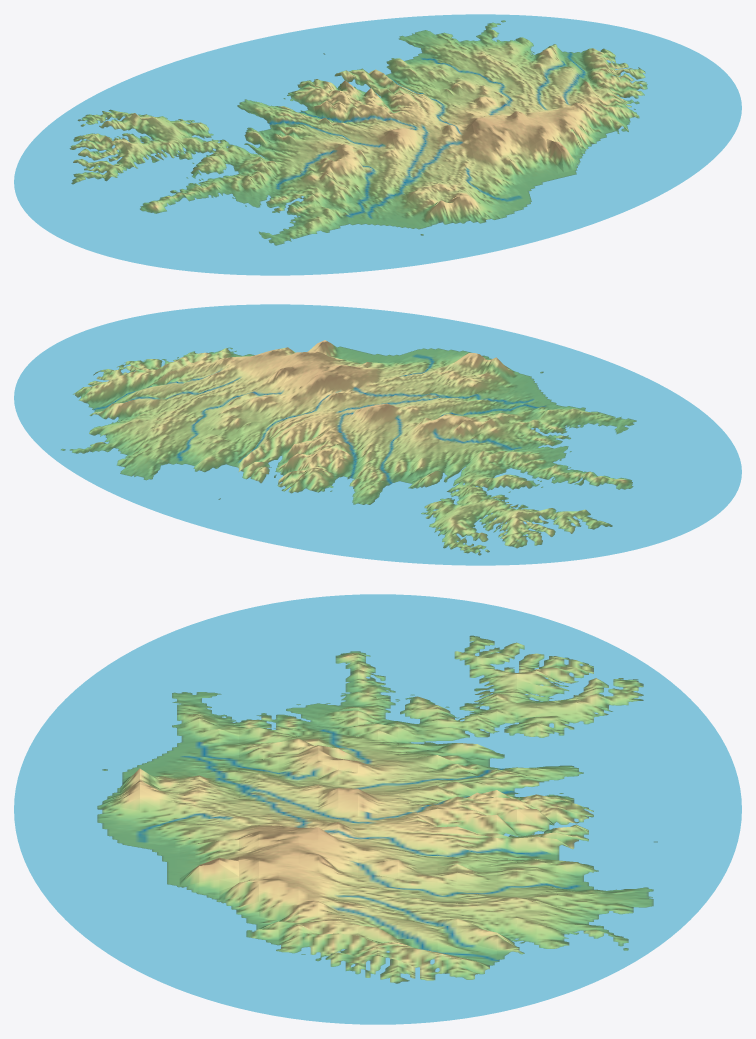
Rendered from ISL-terrain.glb.
3 renders of one model, top to bottom at view 1: azimuth 30°, elevation 25°; view 2: azimuth 150°, elevation 25°; view 3: azimuth 270°, elevation 25°, orthographic. The views are drawn at different scales.
Visible parts, largest first — view 1: Relevo com hidrografia; view 2: Relevo com hidrografia; view 3: Relevo com hidrografia.
Boxes of the visible parts, box(x1,y1,x2,y2) form: Relevo com hidrografia: box(14, 14, 741, 275); Relevo com hidrografia: box(14, 304, 741, 565); Relevo com hidrografia: box(14, 594, 741, 1024).
Size of the model in its own units: 1.98 by 0.0678 by 1.42.
2 materials, 1 textured.
